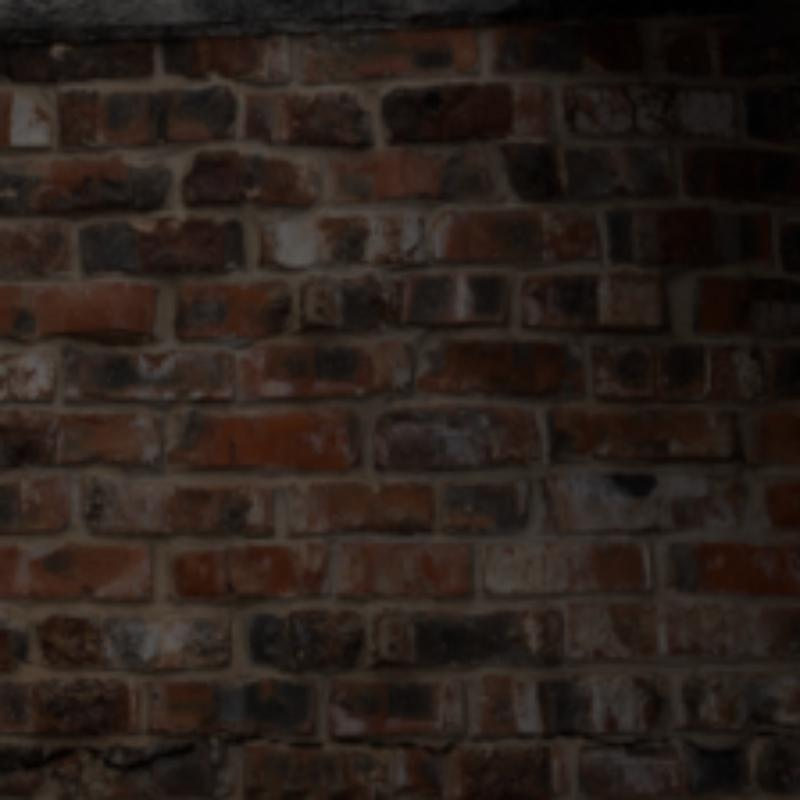pothole: (271, 732, 635, 754), (0, 746, 144, 771), (147, 732, 225, 760), (700, 732, 796, 754), (621, 86, 639, 132), (221, 554, 236, 593), (645, 736, 693, 746), (404, 239, 425, 257)
